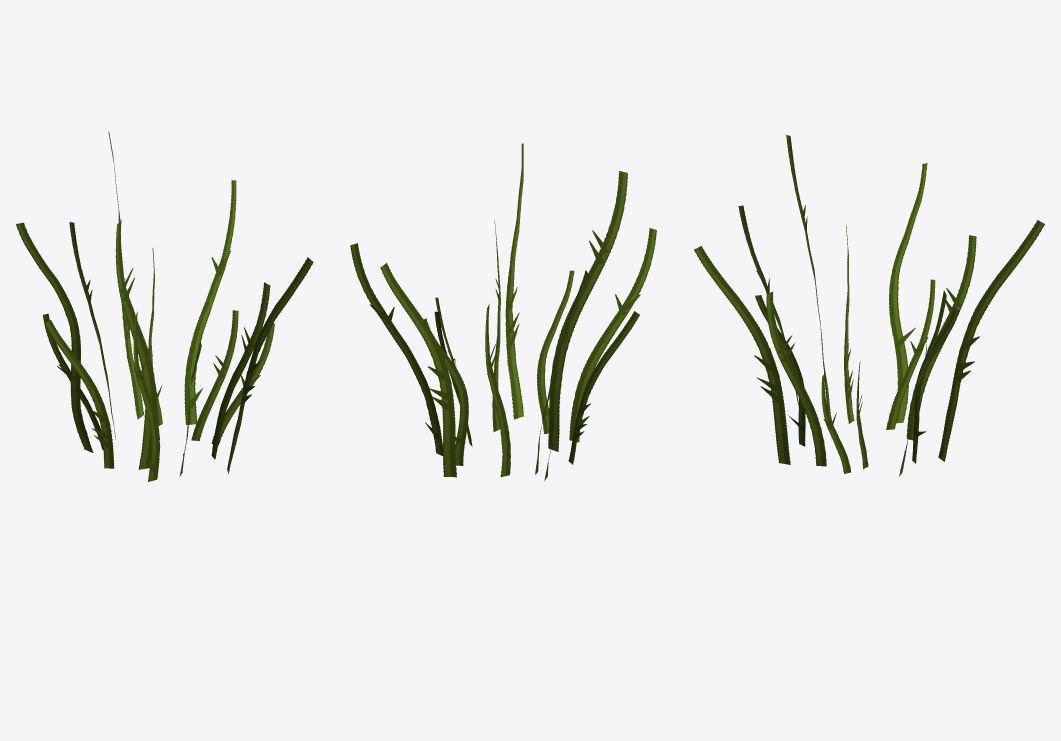
The model's file is mm8_deco_coral.glb.
3 renders of one model, left to right at view 1: azimuth 30°, elevation 25°; view 2: azimuth 150°, elevation 25°; view 3: azimuth 270°, elevation 25°, orthographic.
Parts seen in each view (by area): view 1: Coral; view 2: Coral; view 3: Coral.
Boxes of the visible parts, x1=… form: Coral: x1=16, y1=131, x2=313, y2=481; Coral: x1=350, y1=143, x2=656, y2=480; Coral: x1=694, y1=135, x2=1044, y2=476.
Size of the model in its own units: 1.15 by 2.98 by 1.42.
Materials: 2 (2 with a texture image).
